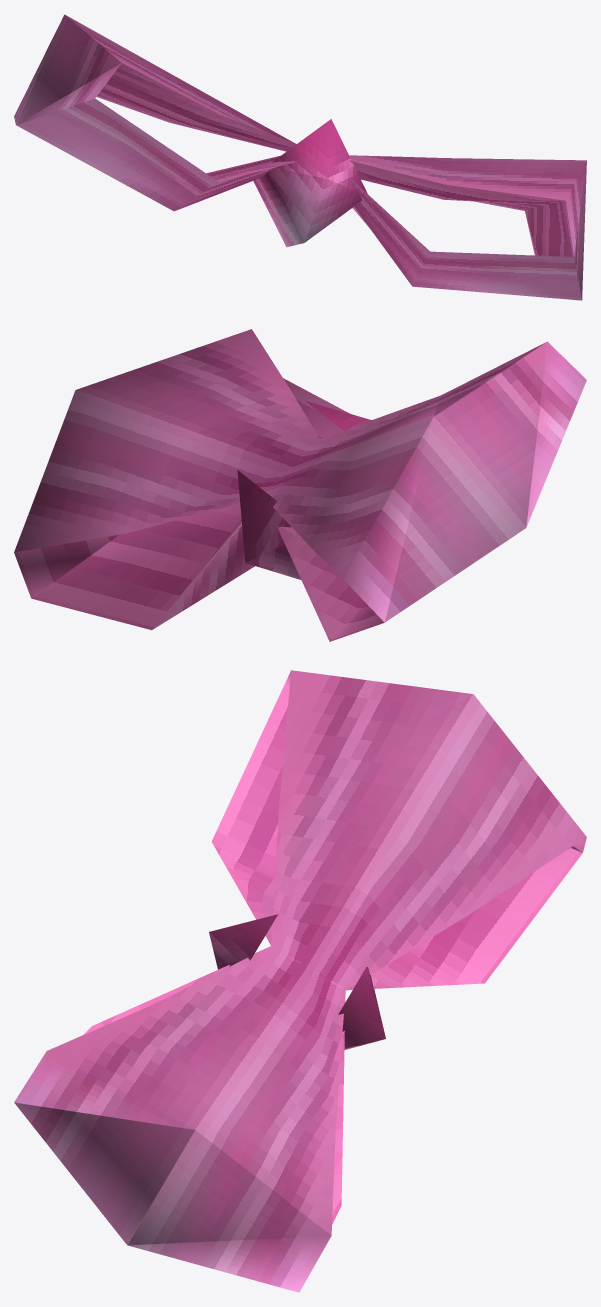
File: tt_m_chr_avt_acc_hat_ribbon.glb
3 views of the same model, one above another, from view 1: azimuth 30°, elevation 25°; view 2: azimuth 150°, elevation 25°; view 3: azimuth 270°, elevation 25° (orthographic). The views are drawn at different scales.
Parts seen in each view (by area): view 1: ribbonHat; view 2: ribbonHat; view 3: ribbonHat.
Part boxes in pixels (left/top/right/bottom): ribbonHat: left=14, top=14, right=586, bottom=300; ribbonHat: left=14, top=329, right=586, bottom=641; ribbonHat: left=14, top=670, right=586, bottom=1292.
Bounding box in the file's own units: 2.16 × 1.36 × 1.89.
Materials: 1 (1 with a texture image).
